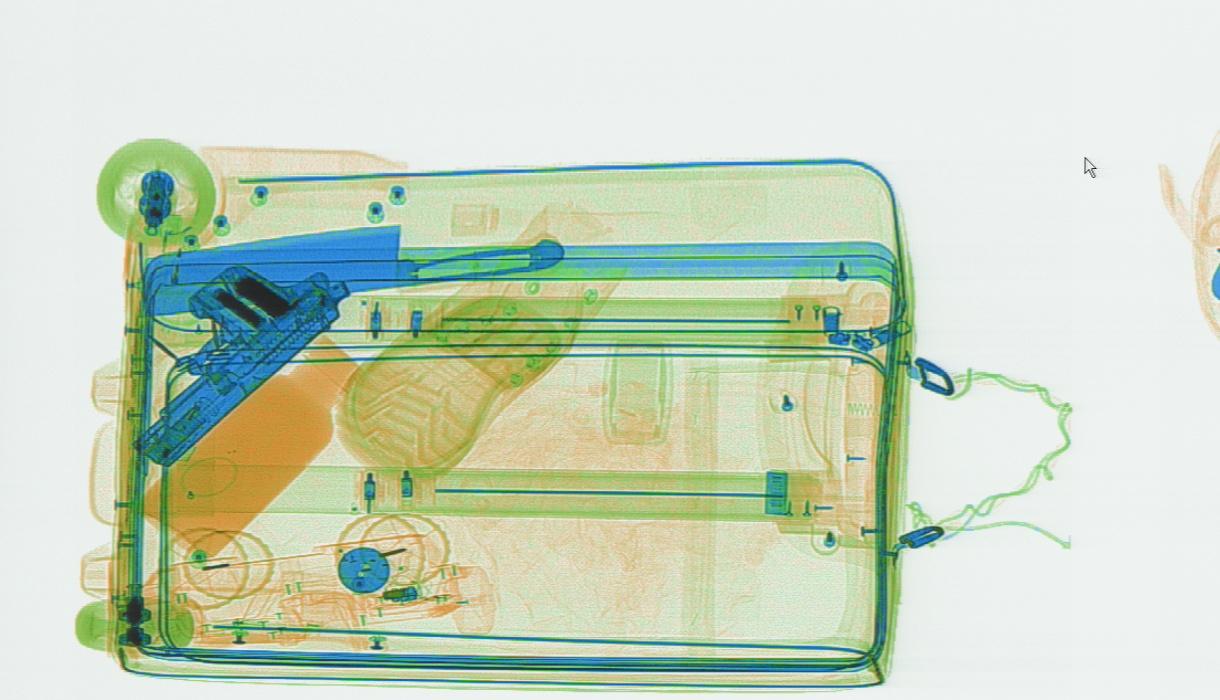knife: (131, 219, 567, 316)
